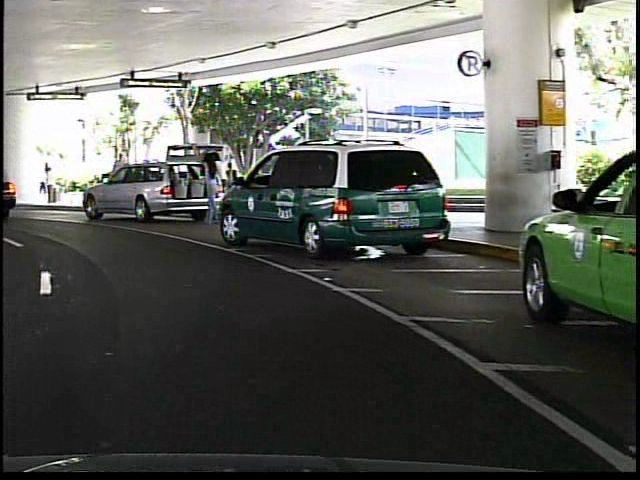person: (199, 148, 219, 227), (106, 149, 128, 202)
